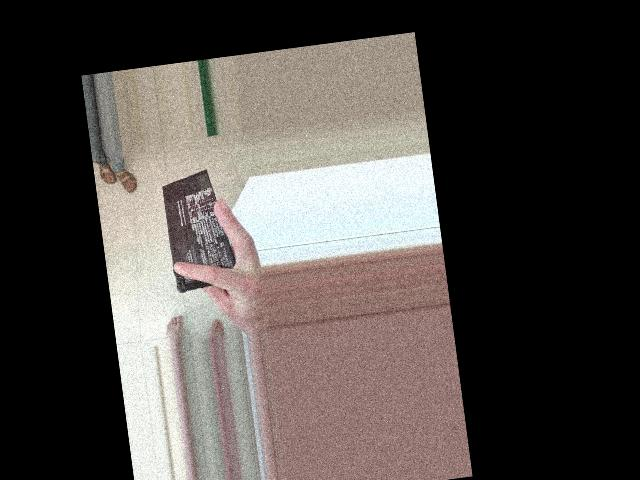chocolate: (91, 192, 236, 280)
